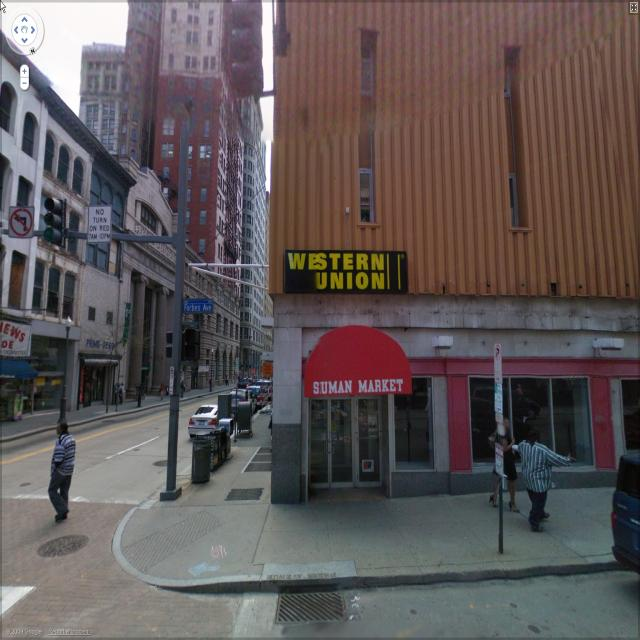b_1: (278, 11, 634, 492), (135, 7, 248, 259), (140, 79, 248, 260), (33, 91, 103, 321), (0, 23, 48, 303), (82, 149, 128, 403), (241, 131, 272, 381), (68, 42, 130, 150)
